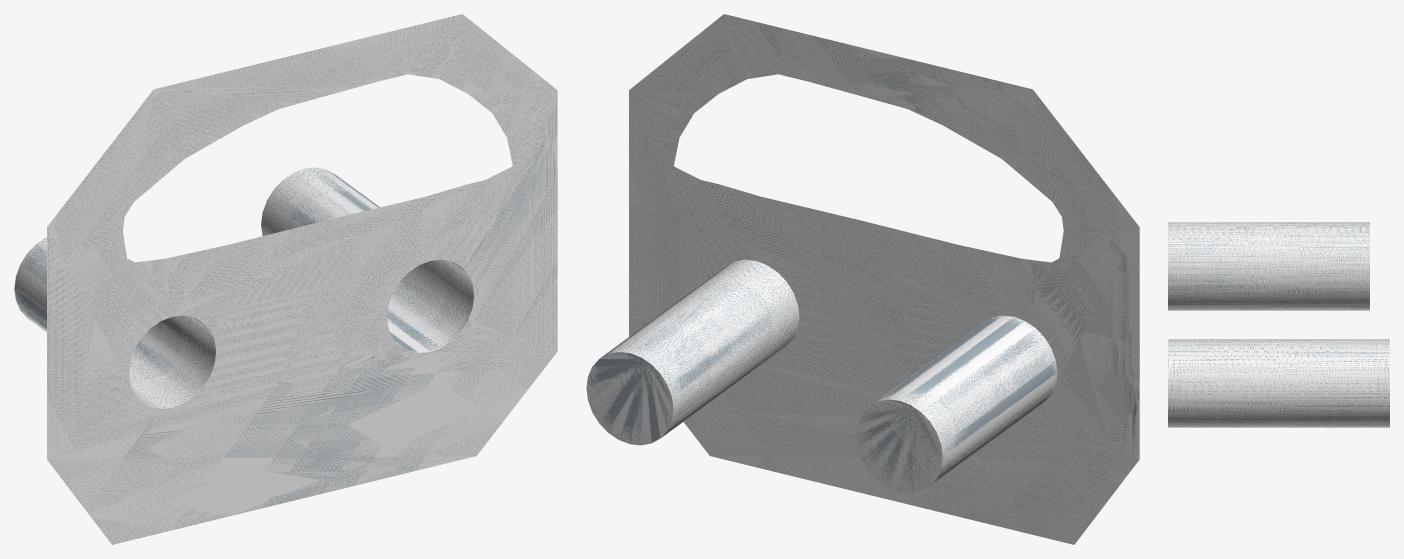
Rendered from car.fbx.
The picture shows the model from 3 angles, left to right: view 1: azimuth 30°, elevation 25°; view 2: azimuth 150°, elevation 25°; view 3: azimuth 270°, elevation 25°; orthographic projection. The views are drawn at different scales.
Parts seen in each view (by area): view 1: Model; view 2: Model; view 3: Model.
Boxes of the visible parts, x1,y1,x2,y2 form: Model: [14, 14, 557, 544]; Model: [586, 14, 1139, 544]; Model: [1168, 222, 1389, 427].
Size of the model in its own units: 44 by 36.69 by 18.81.
